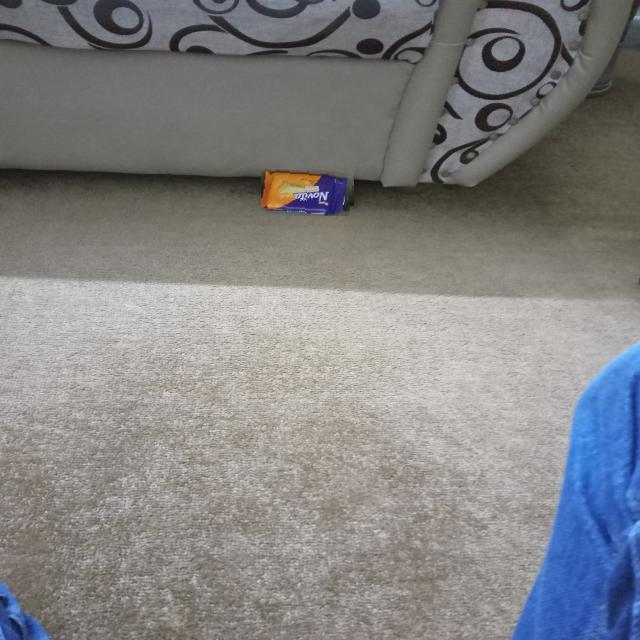Plastic: (261, 166, 354, 216)
